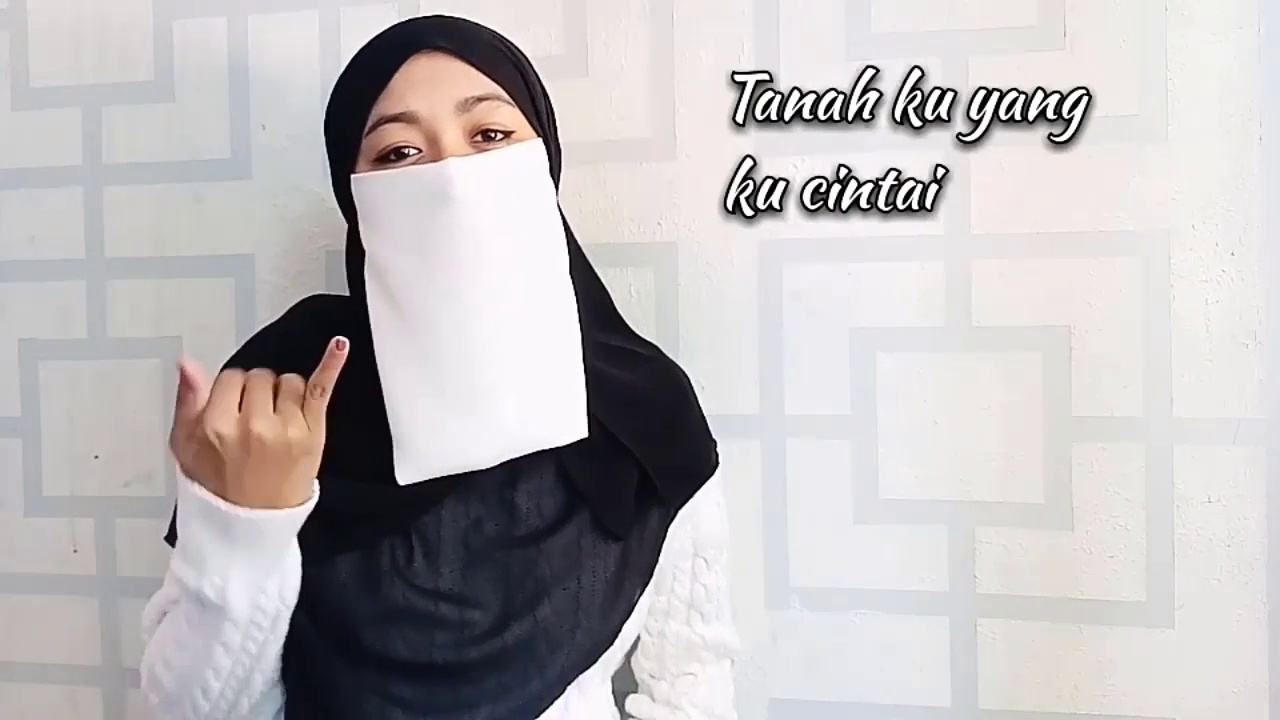YANG: (164, 314, 357, 532)
